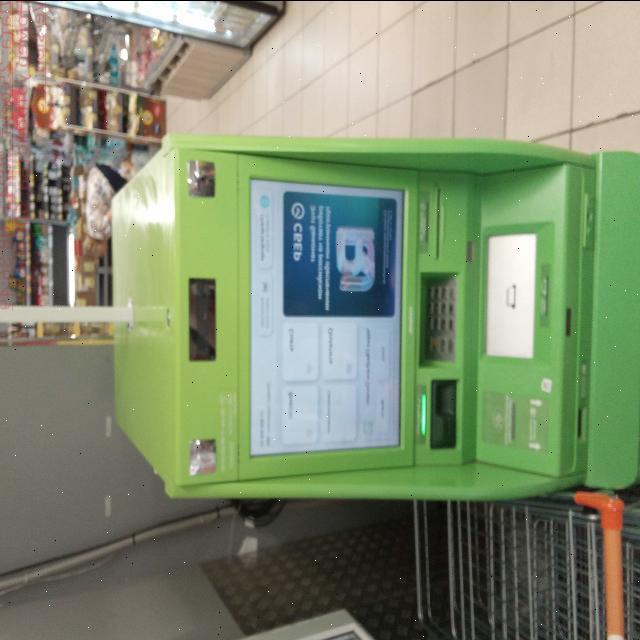bank: (108, 124, 640, 506)
